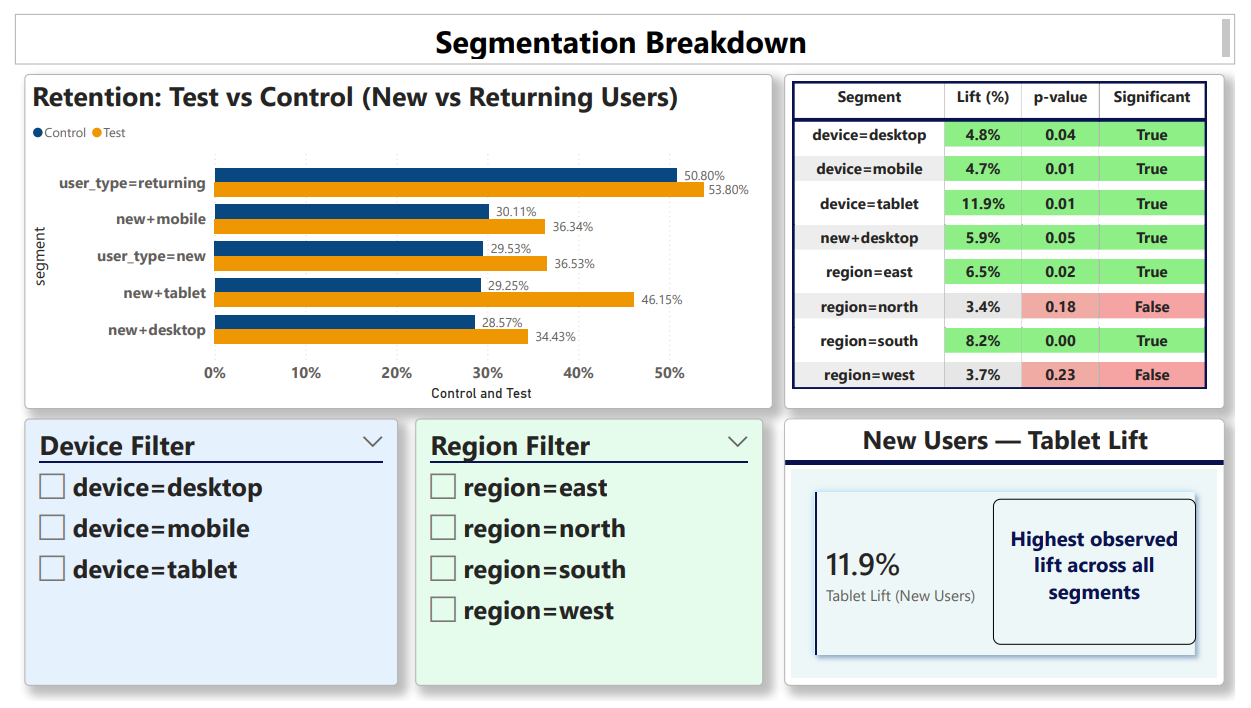

This screenshot's page, from the dashboard's own definition file:
{"tool":"powerbi","page":{"name":"Segmentation Breakdown","canvas":[1280,720],"ordinal":2},"visuals":[{"type":"textbox","box":[0,0,1280,53.5],"z":0},{"type":"clusteredBarChart","title":"Retention: Test vs Control (New vs Returning Users)","fields":{"Category":["SegmentResults.segment"],"Y":["Avg(SegmentResults.retention_ctrl)","Avg(SegmentResults.retention_test)"]},"box":[9.6,63.1,784.9,351.3],"z":1000},{"type":"tableEx","fields":{"Values":["SegmentResults.segment","SegmentResults.absolute_lift","SegmentResults.p_value","SegmentResults.significant"]},"box":[806.9,63.1,462.4,351.3],"z":2000},{"type":"cardVisual","title":"New Users — Tablet Lift","fields":{"Data":["Sum(SegmentResults.absolute_lift)"]},"box":[806.9,424,462.4,279.9],"z":3000},{"type":"textbox","box":[1026.4,507.7,212.7,153.7],"z":4000},{"type":"slicer","fields":{"Values":["SegmentResults.segment"]},"box":[9.6,424,392.5,279.9],"z":5000},{"type":"slicer","fields":{"Values":["SegmentResults.segment"]},"box":[419.9,424,365,279.9],"z":6000}]}

Visuals, with their boxes in screenshot pixels (x1, y1, x2, y2), scaled from the page's 1280x720 canvas onto the 1251x708 screenshot:
textbox: 0 0 1250 53
"Retention: Test vs Control (New vs Returning Users)" clusteredBarChart: 9 62 776 407
tableEx - SegmentResults.segment x SegmentResults.absolute_lift: 789 62 1241 407
"New Users — Tablet Lift" cardVisual: 789 417 1241 692
textbox: 1003 499 1211 650
slicer - SegmentResults.segment: 9 417 393 692
slicer - SegmentResults.segment: 410 417 767 692
